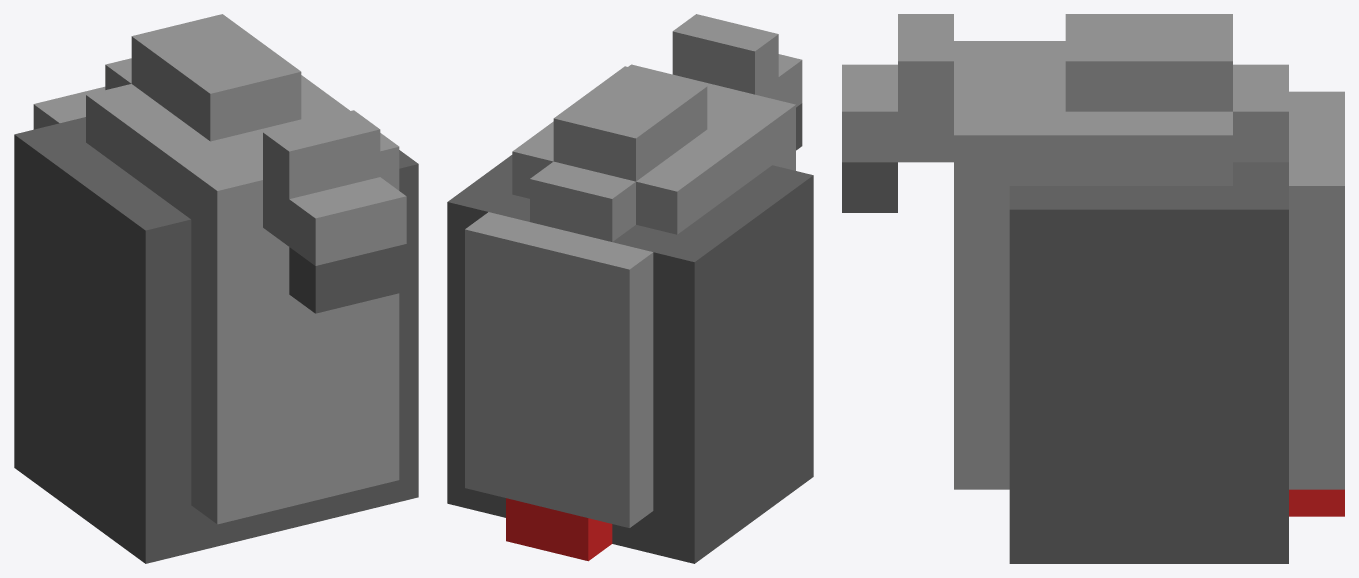
Rendered from Teapot.obj.
3 renders of one model, left to right at view 1: azimuth 30°, elevation 25°; view 2: azimuth 150°, elevation 25°; view 3: azimuth 270°, elevation 25°, orthographic. The views are drawn at different scales.
Size of the model in its own units: 0.6 by 0.9 by 0.9.
1 material, 1 textured.
